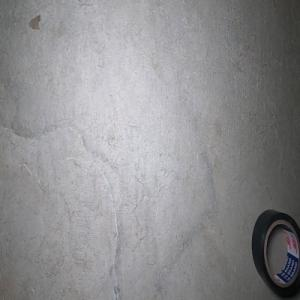Tape: (251, 209, 300, 299)
